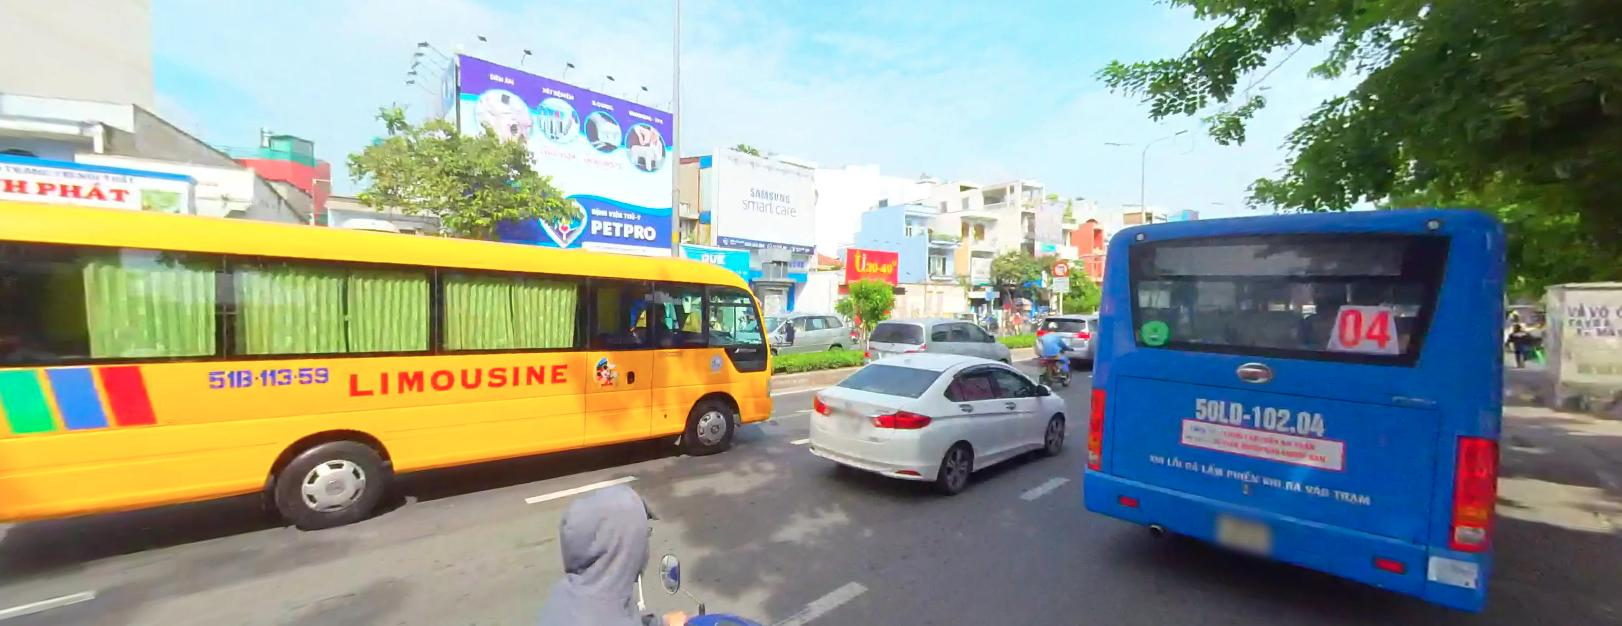Cam re: (1053, 260, 1069, 274), (1053, 260, 1068, 275), (1053, 260, 1068, 274)
